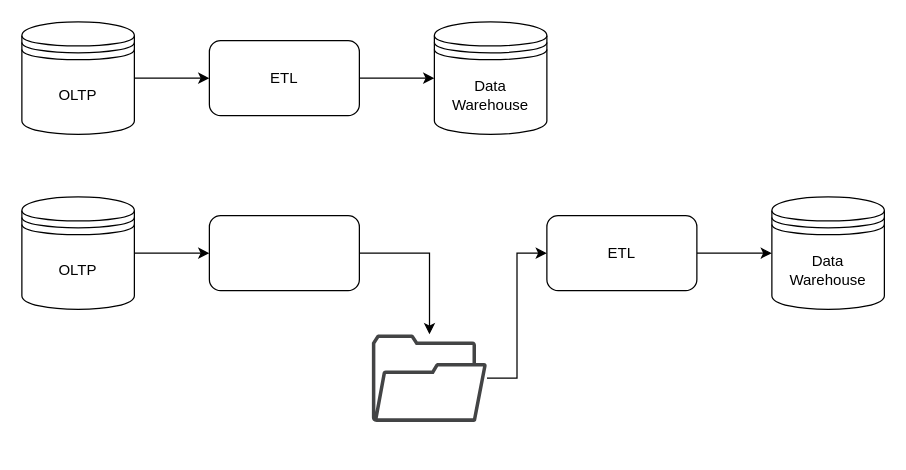
The diagram is 906 pixels wide and 470 high, and some of its shapes have lost their labels. The shapes that lost their labels are listed below. From the top down, each one's box as (x1, y1, x2, y2) in pixels, then its label:
(208, 214, 359, 291): ELT
(371, 334, 486, 421): Data Lake
